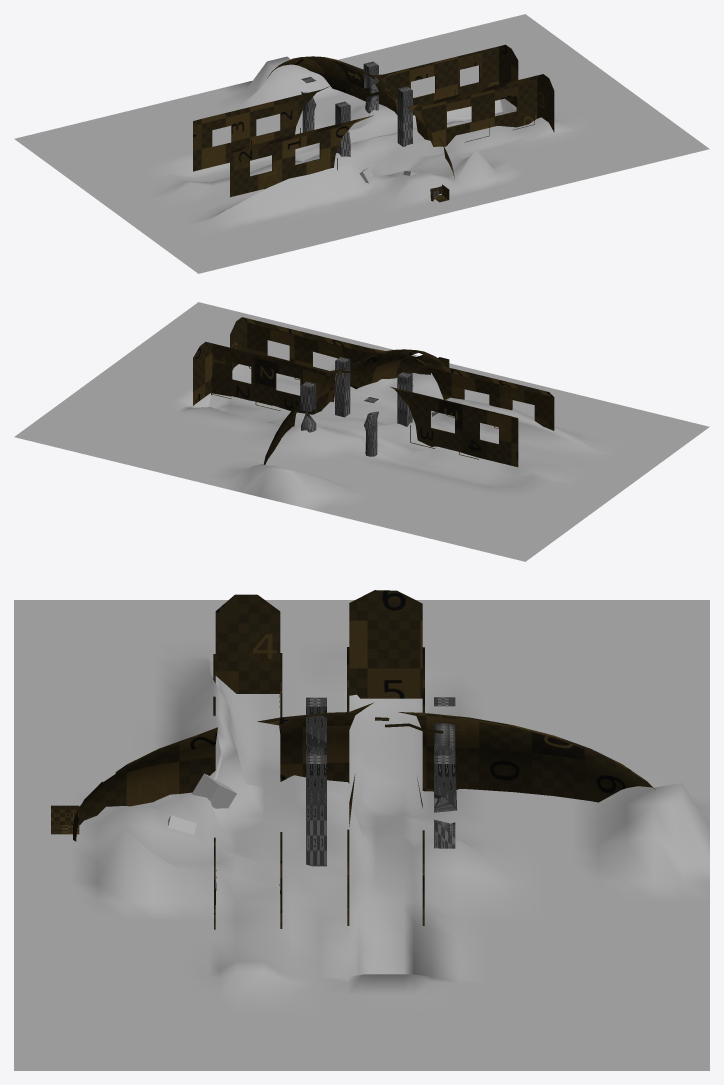
File: third_Temple.fbx
The picture shows the model from 3 angles, top to bottom: view 1: azimuth 30°, elevation 25°; view 2: azimuth 150°, elevation 25°; view 3: azimuth 270°, elevation 25°; orthographic projection. The views are drawn at different scales.
Parts seen in each view (by area): view 1: OceanFloor, Dome, Pillar_1, Pillar_2, Pillar_4, Pillar_3; view 2: OceanFloor, Dome, Pillar_1, Pillar_2, Pillar_4, Pillar_3; view 3: OceanFloor, Dome, Pillar_1, Pillar_2, Pillar_4, Stone, Pillar_3, Entryway.
Part boxes in pixels (box(x1,y1,x2,y2)): OceanFloor: box(14, 14, 709, 273); Dome: box(193, 44, 554, 201); Pillar_1: box(397, 86, 412, 146); Pillar_2: box(363, 61, 378, 113); Pillar_4: box(335, 101, 350, 156); Pillar_3: box(301, 77, 316, 132); OceanFloor: box(14, 302, 709, 561); Dome: box(193, 317, 554, 467); Pillar_1: box(335, 357, 350, 417); Pillar_2: box(300, 381, 316, 432); Pillar_4: box(397, 372, 412, 426); Pillar_3: box(364, 397, 378, 456); OceanFloor: box(14, 600, 709, 1070); Dome: box(73, 590, 655, 929); Pillar_1: box(306, 755, 326, 866); Pillar_2: box(434, 755, 457, 848); Pillar_4: box(306, 697, 326, 754); Stone: box(191, 773, 236, 808); Pillar_3: box(434, 697, 455, 754); Entryway: box(51, 805, 79, 834).
Size of the model in its own units: 118 by 17.9 by 73.61.
